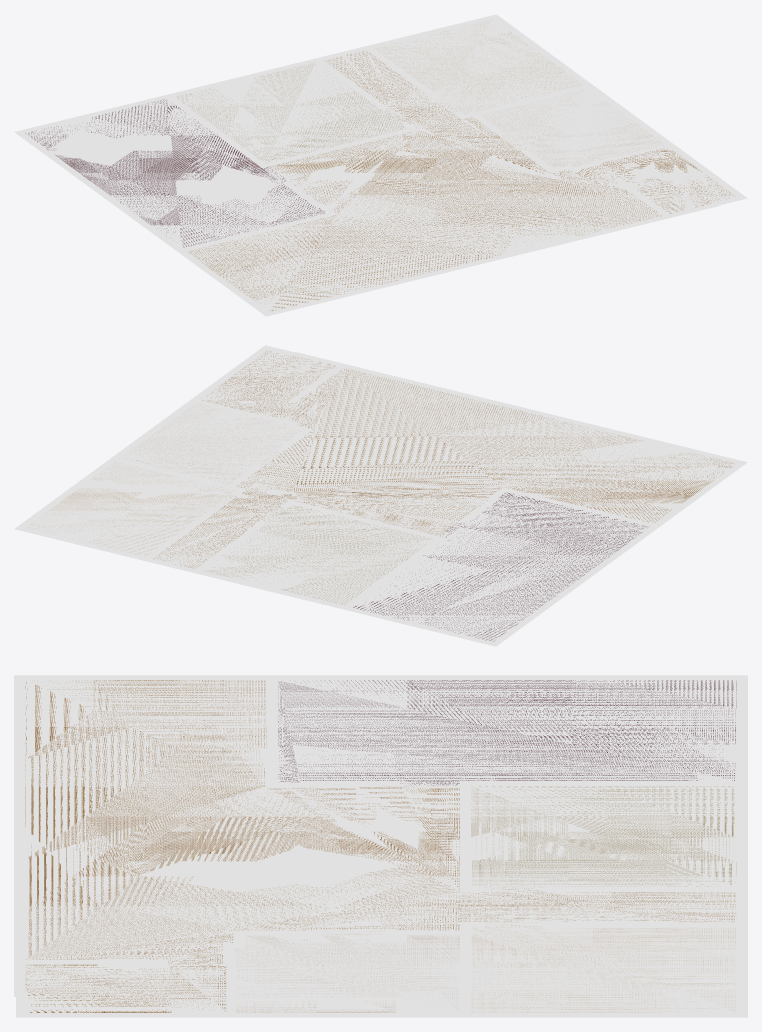
Rendered from robot_house_ground.dae.
3 renders of one model, top to bottom at view 1: azimuth 30°, elevation 25°; view 2: azimuth 150°, elevation 25°; view 3: azimuth 270°, elevation 25°, orthographic. The views are drawn at different scales.
Visible parts, largest first — view 1: SketchUp (×6); view 2: SketchUp (×6); view 3: SketchUp (×7).
Part boxes in pixels (x1,y1,x2,y2): SketchUp (×6): (14,14,747,316); SketchUp (×6): (14,345,747,646); SketchUp (×7): (14,675,747,1017).
Bounding box in the file's own units: 408 × 370 × 0.
Materials: 6 (5 with a texture image).
